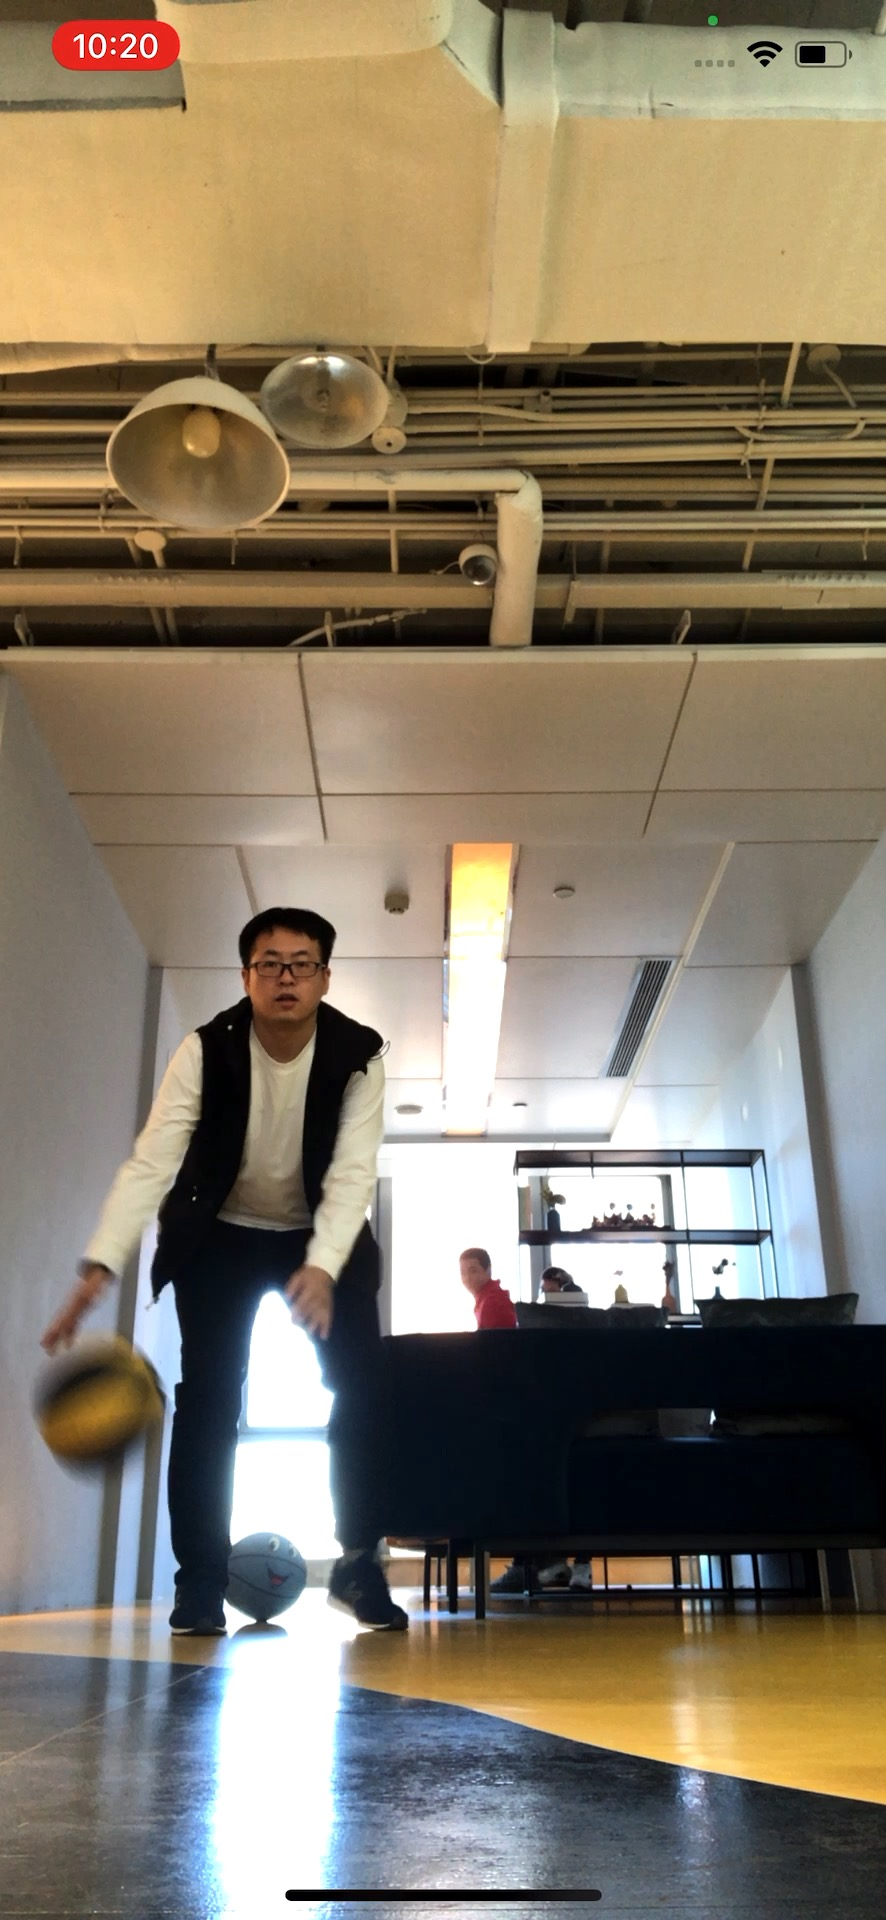ball: (39, 1333, 166, 1472), (221, 1531, 308, 1621)
